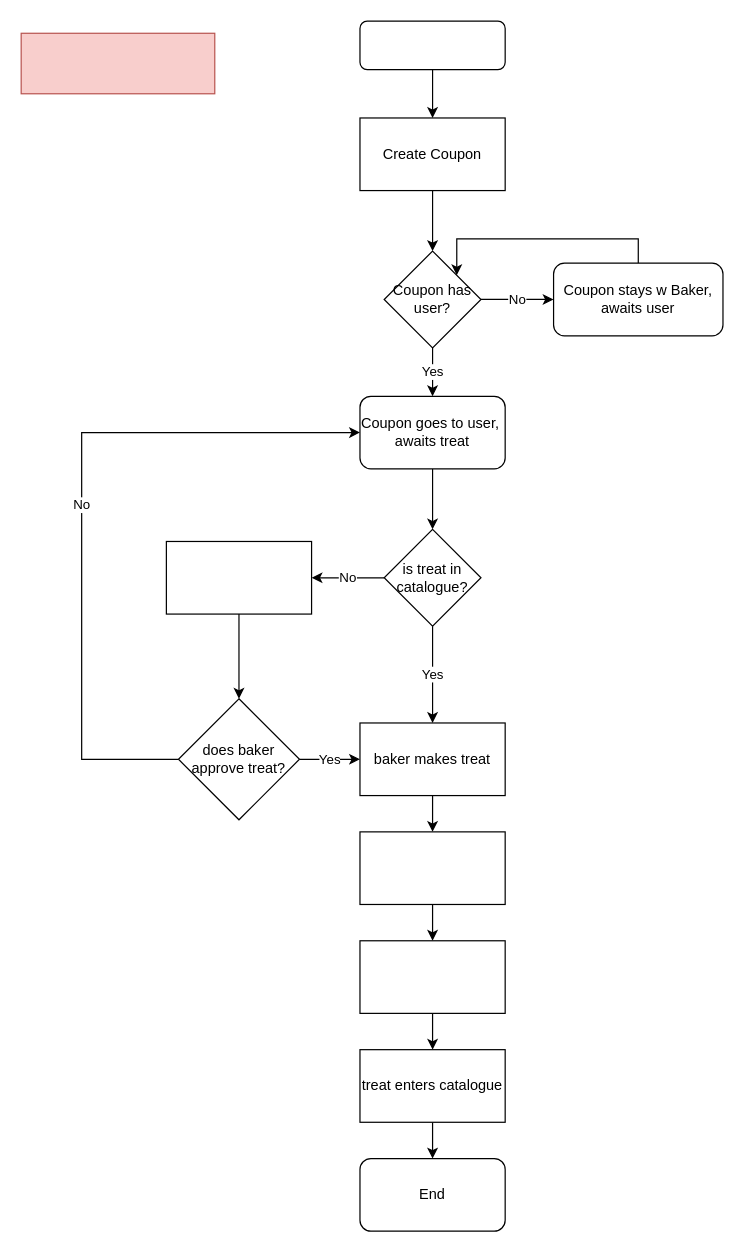
This 744x1252 diagram has some shape labels left out. Each missing label, with the box of its shape:
Baker Start: (359, 20, 505, 70)
Note: user = recipient user: (20, 32, 215, 94)
user fills out treat request form: (165, 540, 312, 614)
user receives treat: (359, 831, 505, 904)
user reviews treat and baker uploads photo: (359, 940, 505, 1013)
